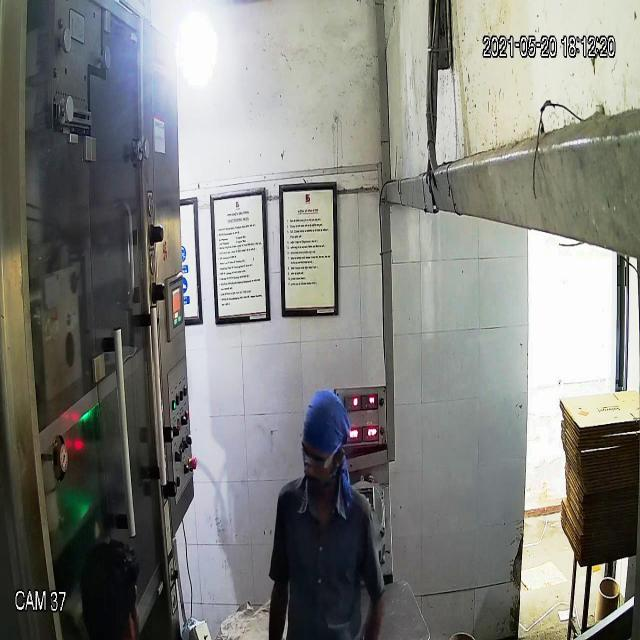glasses: (297, 441, 341, 474)
